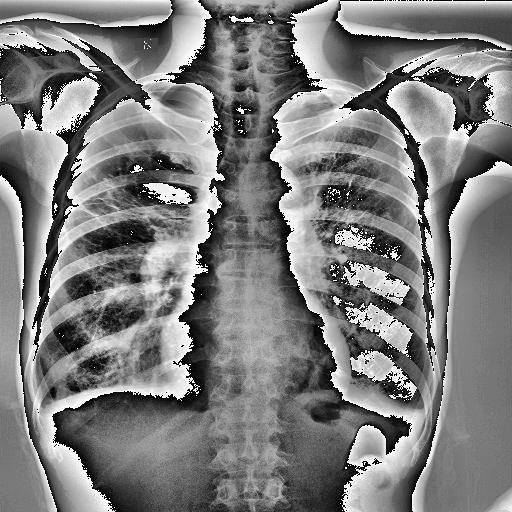0- Aortic enlargement: (240, 164, 306, 238), (241, 162, 304, 218)
10- Pleural effusion: (395, 396, 432, 432), (32, 385, 58, 424), (396, 406, 428, 430), (28, 404, 62, 424), (408, 398, 434, 424), (33, 397, 55, 423)
11- Pleural thickening: (276, 88, 366, 121), (287, 88, 369, 110), (278, 90, 386, 106), (395, 396, 432, 432), (32, 385, 58, 424), (408, 398, 434, 424), (33, 397, 55, 423)
12- Pneumothorax: (76, 78, 228, 158)
13- Pulmonary fibrosis: (62, 144, 173, 261), (62, 166, 190, 253), (300, 109, 374, 234), (60, 175, 158, 237), (304, 321, 357, 395), (320, 164, 376, 230), (336, 266, 414, 306), (328, 176, 388, 222), (343, 274, 425, 303), (322, 316, 376, 360)
8- Nodule-Mass: (338, 255, 348, 263)
